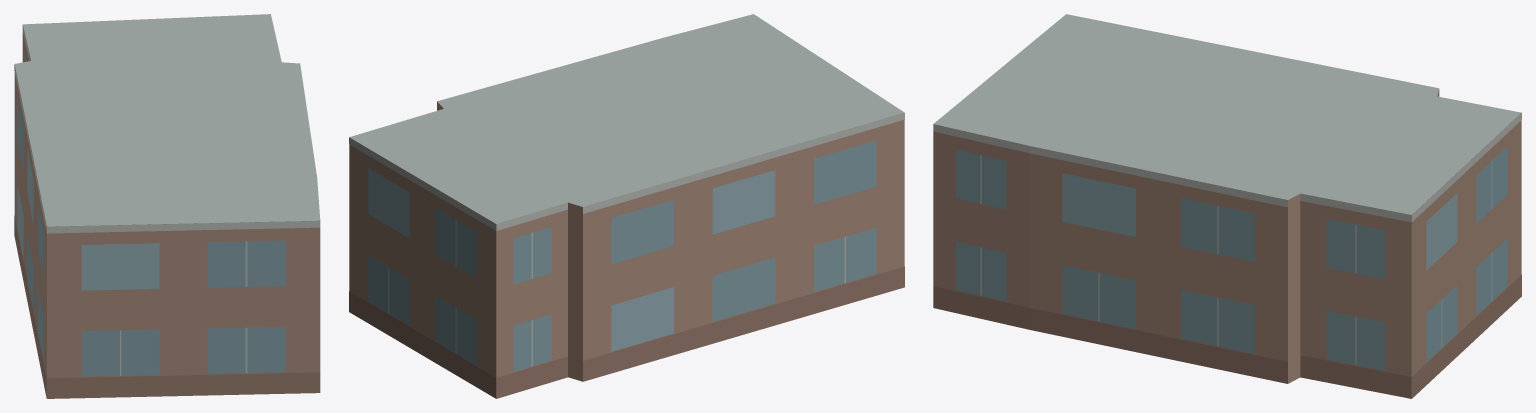
Rendered from survey-upis-32533332.glb.
3 renders of one model, left to right at view 1: azimuth 30°, elevation 25°; view 2: azimuth 150°, elevation 25°; view 3: azimuth 270°, elevation 25°, orthographic. The views are drawn at different scales.
Parts seen in each view (by area): view 1: survey-upis-32533332.tmp; view 2: survey-upis-32533332.tmp; view 3: survey-upis-32533332.tmp.
Part boxes in pixels (left/top/right/bottom): survey-upis-32533332.tmp: left=14, top=14, right=320, bottom=398; survey-upis-32533332.tmp: left=349, top=14, right=904, bottom=398; survey-upis-32533332.tmp: left=933, top=14, right=1521, bottom=398.
Bounding box in the file's own units: 14.31 × 6.1 × 17.7.
